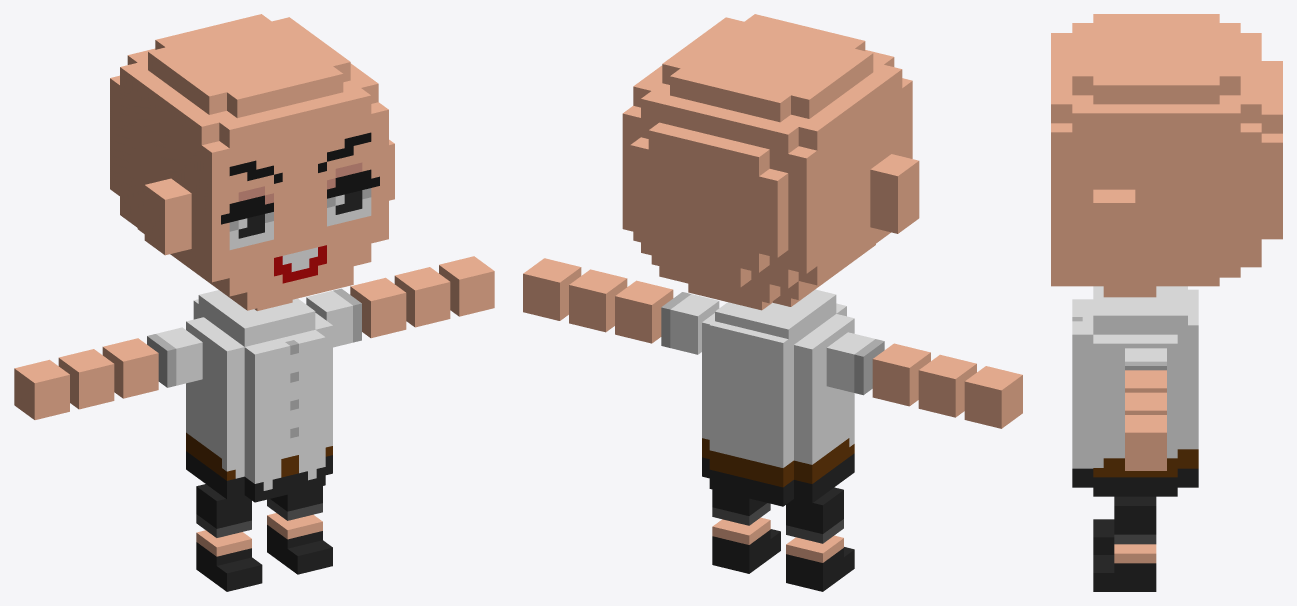
The model's file is hero_novice.obj.
3 views of the same model, side by side, from view 1: azimuth 30°, elevation 25°; view 2: azimuth 150°, elevation 25°; view 3: azimuth 270°, elevation 25° (orthographic). The views are drawn at different scales.
Parts seen in each view (by area): view 1: hero_novice; view 2: hero_novice; view 3: hero_novice.
Part boxes in pixels (bbox=[...]): hero_novice: bbox=[14, 14, 494, 591]; hero_novice: bbox=[523, 14, 1022, 591]; hero_novice: bbox=[1051, 14, 1282, 591].
Size of the model in its own units: 52 by 54 by 22.
Materials: 1 (1 with a texture image).
